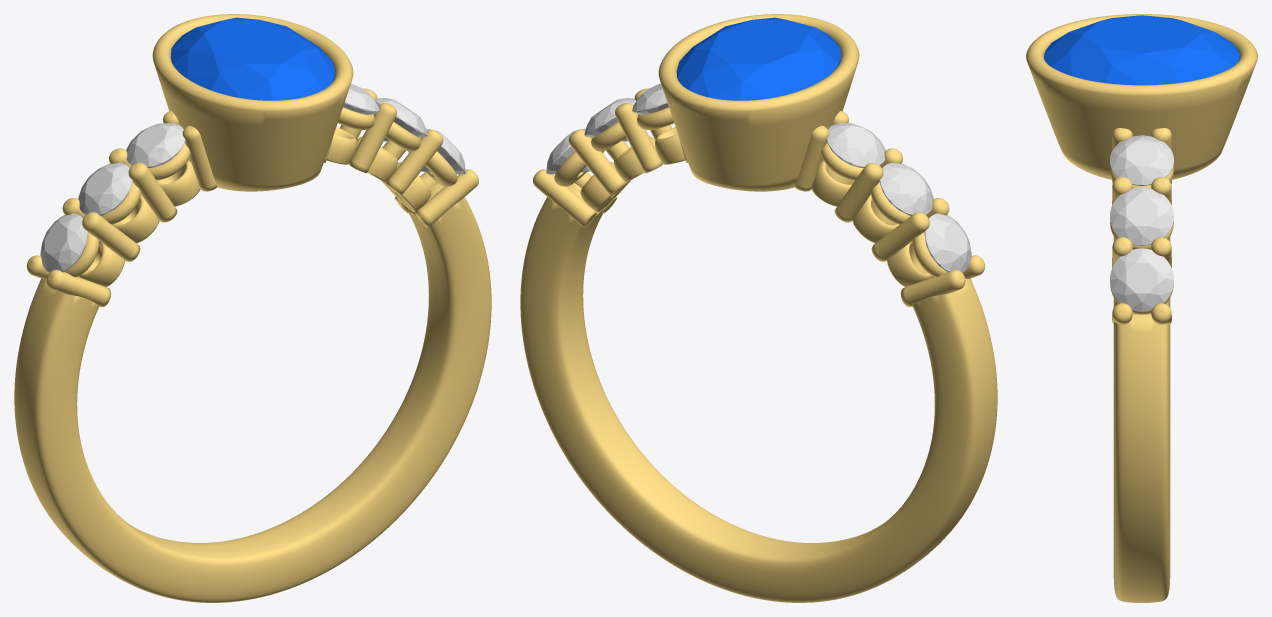
The model's file is bluesapphire-oval-yellowgold-bezelset-straightband-7stone.glb.
3 views of the same model, side by side, from view 1: azimuth 30°, elevation 25°; view 2: azimuth 150°, elevation 25°; view 3: azimuth 270°, elevation 25° (orthographic).
Visible parts, largest first — view 1: metal, stone.002, side.019, side.018, side.020, side.022, side.023, side.021; view 2: metal, stone.002, side.019, side.018, side.020, side.022, side.023, side.021; view 3: metal, stone.002, side.021, side.022, side.023.
Part boxes in pixels (box(x1,y1,x2,y2)): metal: box(14, 14, 491, 602); stone.002: box(170, 17, 335, 100); side.019: box(78, 163, 132, 215); side.018: box(40, 213, 87, 272); side.020: box(126, 123, 185, 167); side.022: box(375, 98, 427, 141); side.023: box(339, 83, 379, 124); side.021: box(421, 128, 465, 174); metal: box(520, 14, 997, 602); stone.002: box(676, 17, 840, 100); side.019: box(879, 163, 933, 215); side.018: box(924, 213, 971, 272); side.020: box(826, 123, 885, 167); side.022: box(584, 98, 636, 141); side.023: box(632, 83, 672, 124); side.021: box(546, 128, 590, 174); metal: box(1026, 14, 1257, 602); stone.002: box(1044, 15, 1239, 85); side.021: box(1110, 248, 1173, 311); side.022: box(1110, 187, 1173, 245); side.023: box(1110, 135, 1173, 185).
Size of the model in its own units: 20.49 by 23.41 by 9.04.
